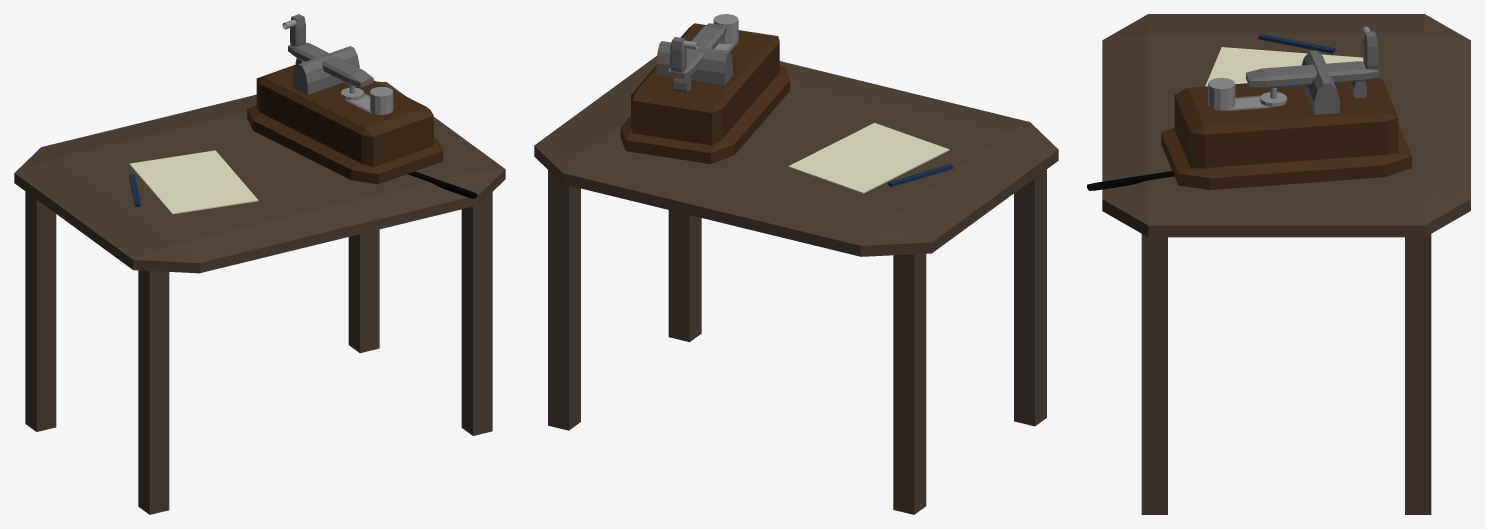
The model's file is Telegraph(OOR).fbx.
The picture shows the model from 3 angles, left to right: view 1: azimuth 30°, elevation 25°; view 2: azimuth 150°, elevation 25°; view 3: azimuth 270°, elevation 25°; orthographic projection. The views are drawn at different scales.
Visible parts, largest first — view 1: beveled_cuboid_4, beveled_cuboid, cube_2, cube_3, cube_1, cube_4, beveled_cuboid_1, cube, cylinder_1, beveled_cuboid_2, cylinder; view 2: beveled_cuboid_4, beveled_cuboid, cube_1, cube, cube_2, cube_4, cube_3, beveled_cuboid_1, cylinder_1, beveled_cuboid_2; view 3: beveled_cuboid_4, beveled_cuboid, cube, cube_3, beveled_cuboid_1, cube_4, beveled_cuboid_2, cylinder_1, cylinder, beveled_cuboid_5, beveled_cuboid_3, cube_5.
Boxes of the visible parts, left/top/right/bottom form: beveled_cuboid_4: left=14, top=81, right=505, bottom=273; beveled_cuboid: left=256, top=64, right=433, bottom=167; cube_2: left=138, top=270, right=169, bottom=514; cube_3: left=461, top=192, right=492, bottom=435; cube_1: left=25, top=191, right=56, bottom=431; cube_4: left=129, top=150, right=258, bottom=214; beveled_cuboid_1: left=247, top=105, right=443, bottom=184; cube: left=348, top=229, right=379, bottom=353; cylinder_1: left=293, top=46, right=359, bottom=94; beveled_cuboid_2: left=288, top=42, right=373, bottom=87; cylinder: left=370, top=86, right=393, bottom=114; beveled_cuboid_4: left=534, top=56, right=1058, bottom=256; beveled_cuboid: left=631, top=23, right=779, bottom=145; cube_1: left=893, top=253, right=926, bottom=514; cube: left=548, top=170, right=580, bottom=430; cube_2: left=1014, top=169, right=1046, bottom=426; cube_4: left=788, top=123, right=949, bottom=193; cube_3: left=668, top=210, right=701, bottom=342; beveled_cuboid_1: left=620, top=66, right=789, bottom=163; cylinder_1: left=656, top=41, right=732, bottom=85; beveled_cuboid_2: left=668, top=23, right=726, bottom=79; beveled_cuboid_4: left=1102, top=14, right=1470, bottom=237; beveled_cuboid: left=1174, top=77, right=1398, bottom=168; cube: left=1405, top=234, right=1431, bottom=514; cube_3: left=1141, top=234, right=1167, bottom=514; beveled_cuboid_1: left=1161, top=124, right=1411, bottom=189; cube_4: left=1205, top=47, right=1363, bottom=86; beveled_cuboid_2: left=1246, top=61, right=1378, bottom=88; cylinder_1: left=1301, top=50, right=1339, bottom=114; cylinder: left=1208, top=77, right=1235, bottom=110; beveled_cuboid_5: left=1087, top=171, right=1174, bottom=190; beveled_cuboid_3: left=1363, top=31, right=1378, bottom=69; cube_5: left=1258, top=33, right=1335, bottom=53.
Bounding box in the file's own units: 238 × 223 × 182.
Materials: 7 (7 with a texture image).
